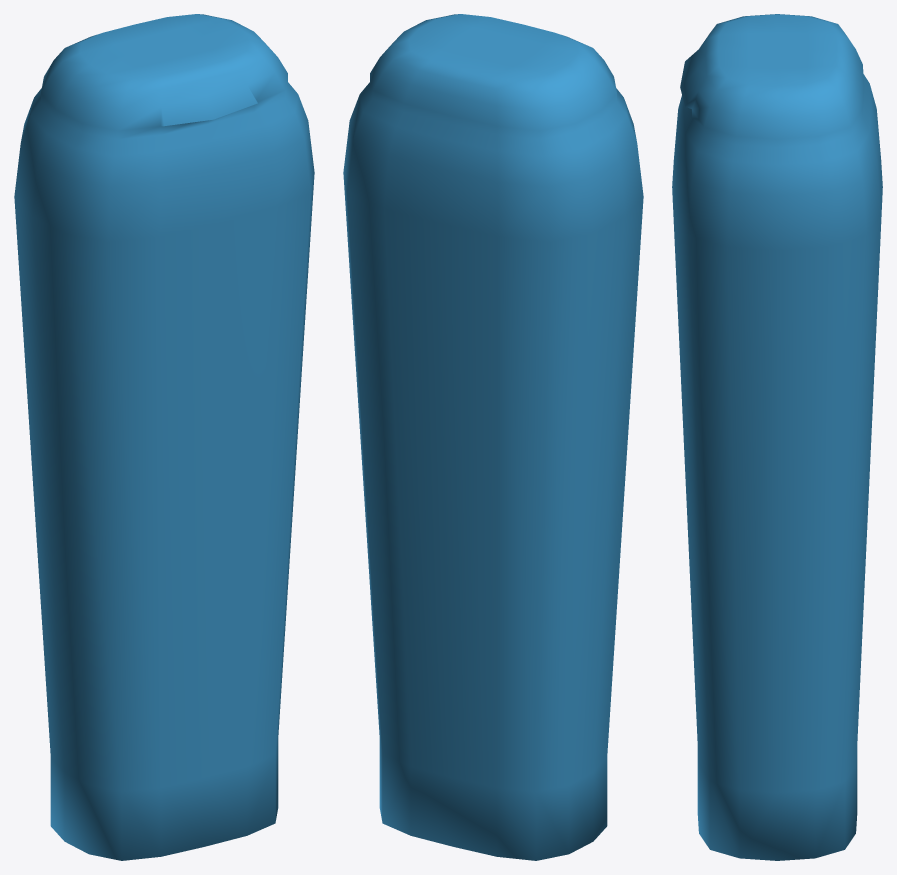
File: shampoo.fbx
3 renders of one model, left to right at view 1: azimuth 30°, elevation 25°; view 2: azimuth 150°, elevation 25°; view 3: azimuth 270°, elevation 25°, orthographic.
Parts seen in each view (by area): view 1: shampoo; view 2: shampoo; view 3: shampoo.
Part boxes in pixels (bbox=[...]): shampoo: bbox=[14, 14, 314, 860]; shampoo: bbox=[343, 14, 643, 860]; shampoo: bbox=[672, 14, 882, 860].
Size of the model in its own units: 20.61 by 57.55 by 14.42.
